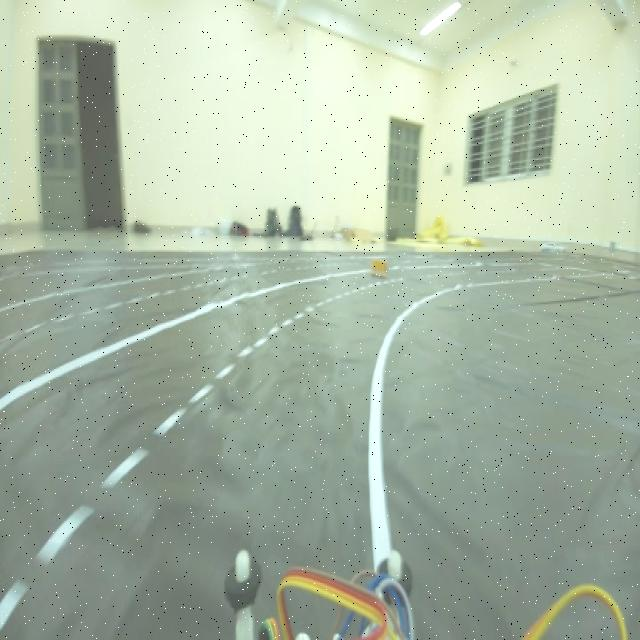roadblock: (366, 251, 390, 280)
